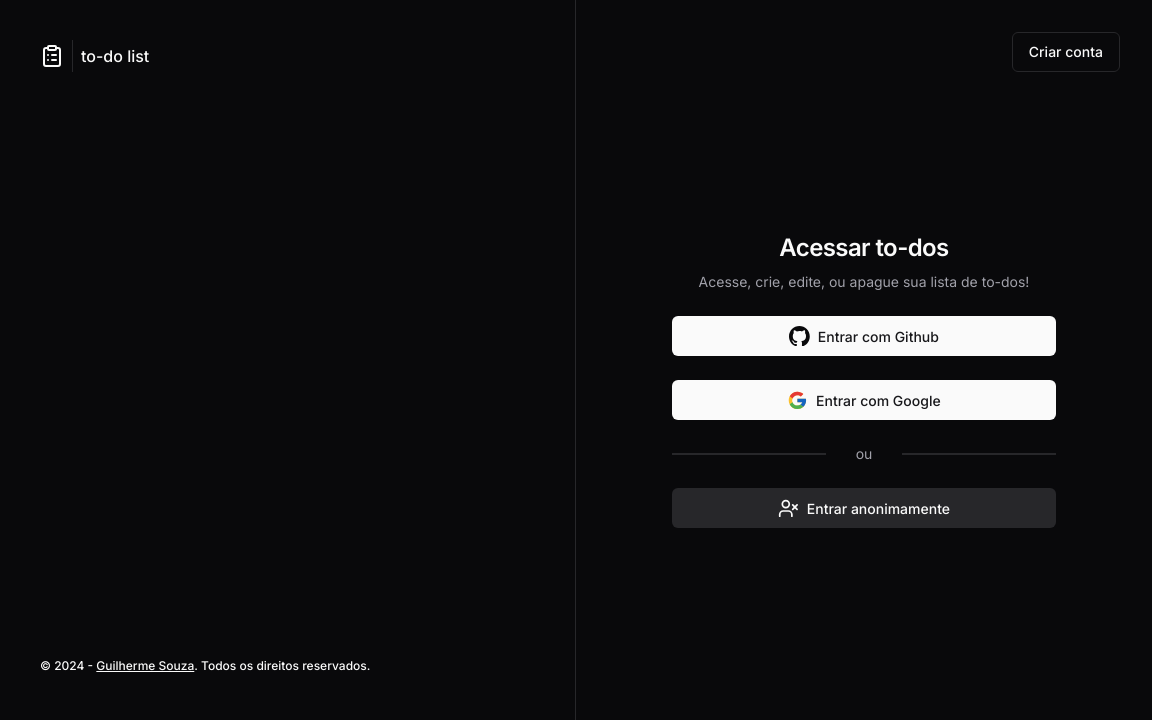
Scenario: Anonymous dashboard › should add new to-do
Click the button with test id "sign-in-anon-btn" at (864, 508), box [672,488,1056,528]
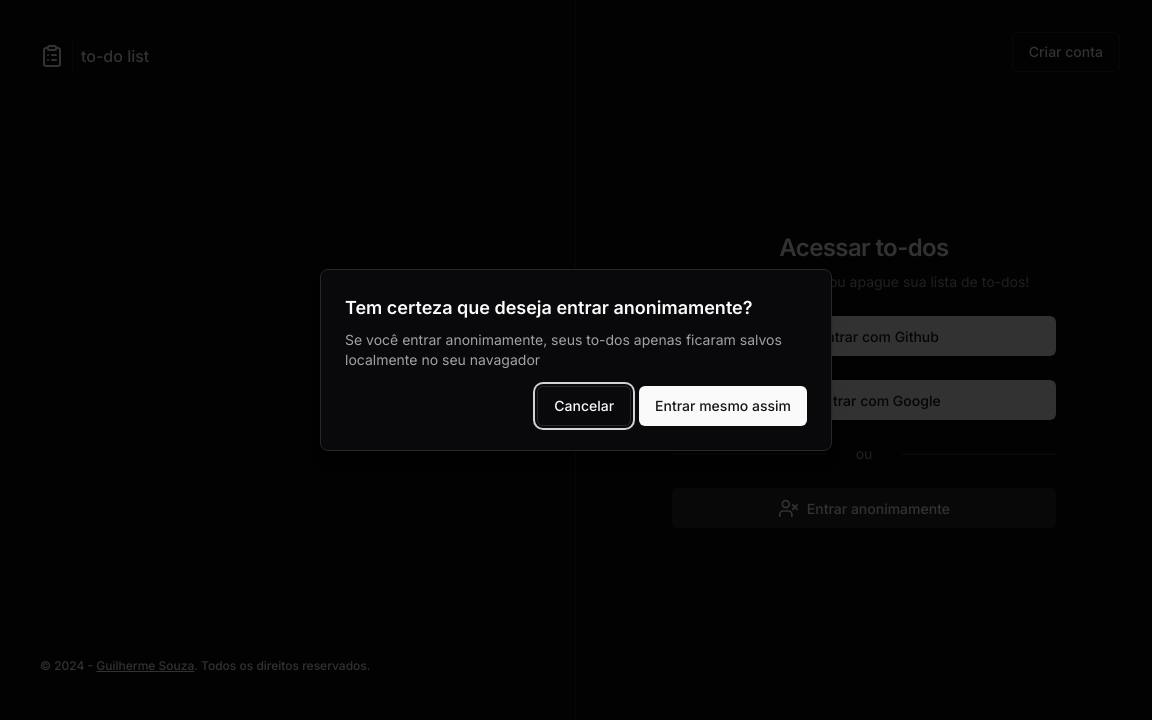
Click the button "Entrar mesmo assim" at (723, 406), box [639,386,807,426]
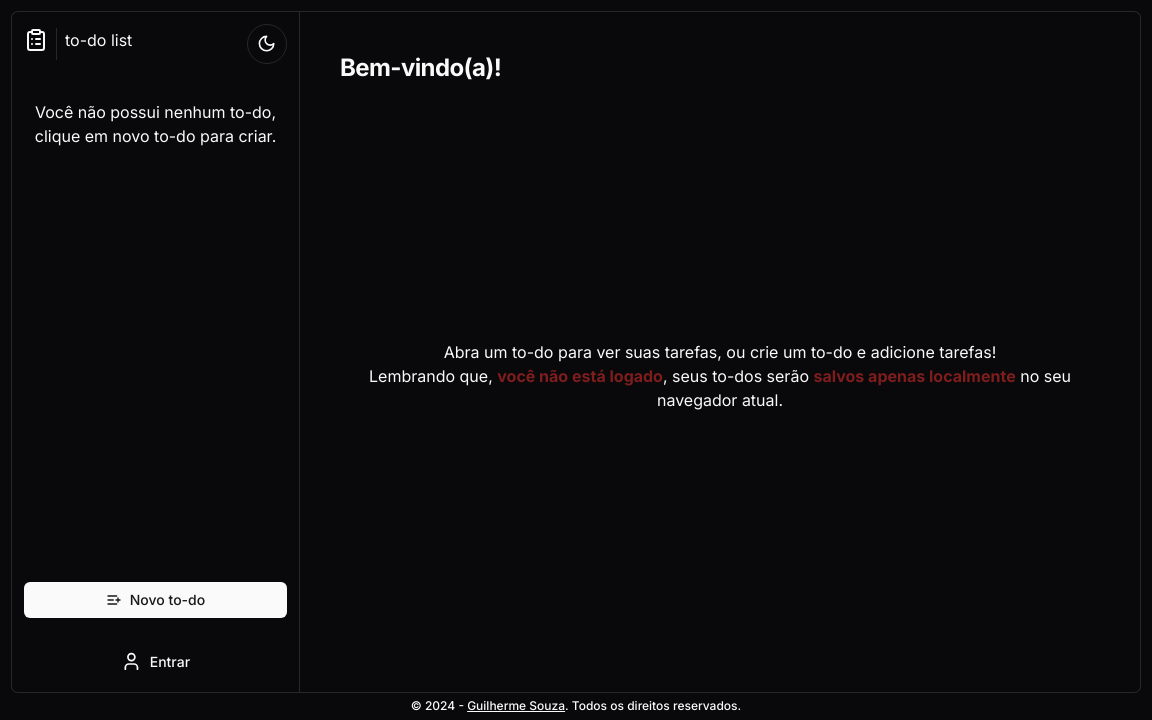
Click the button "Novo to-do" at (156, 600), box [24,582,287,618]
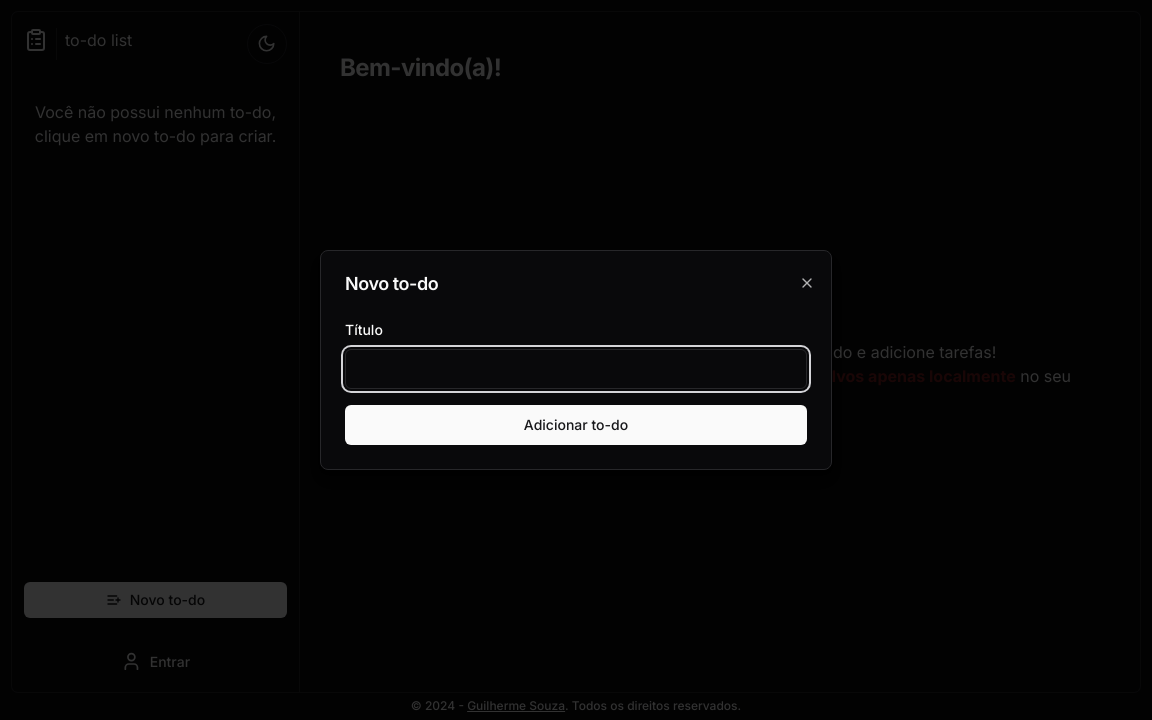
Type "teste new to-do" into the field at (576, 369), box [345,349,807,389]
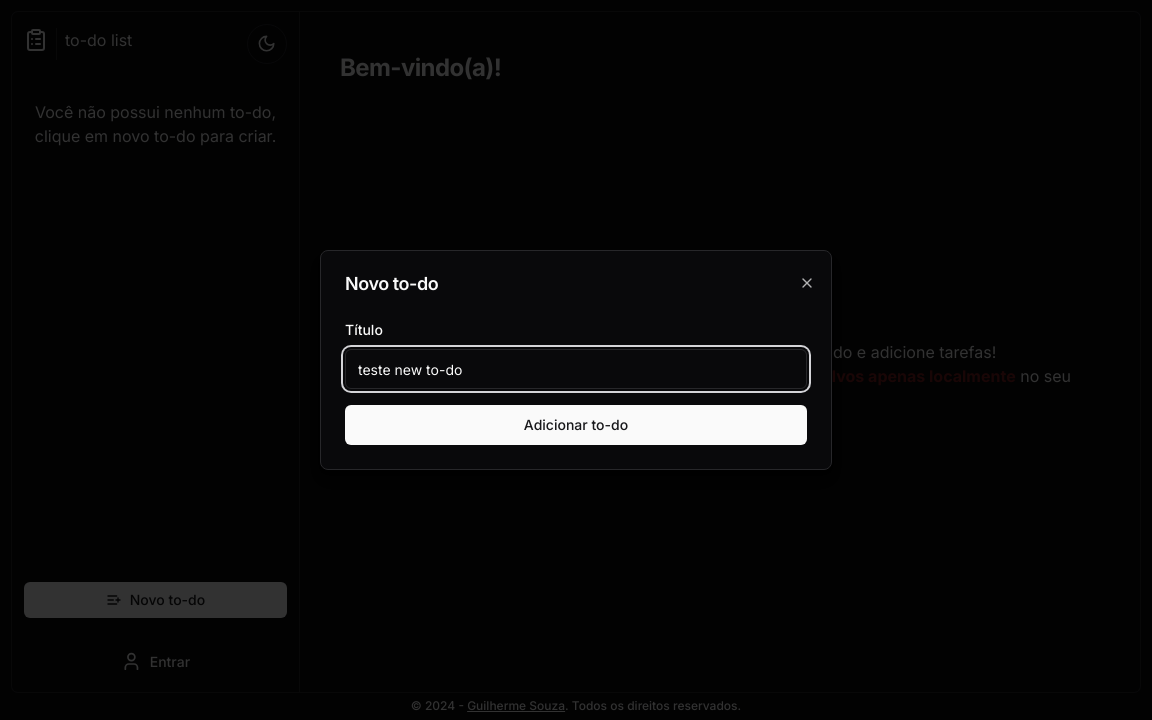
Click the button "Adicionar to-do" at (576, 425), box [345,405,807,445]
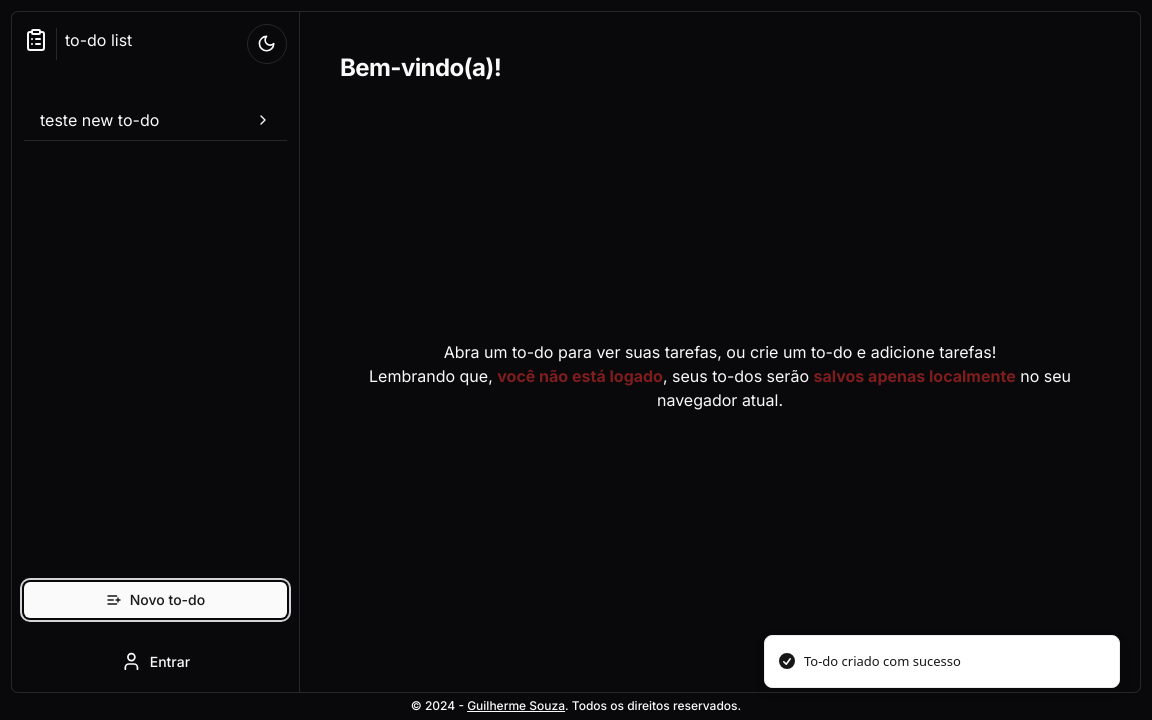
Expected: the link "teste new to-do" is shown, [40,110,271,130]
